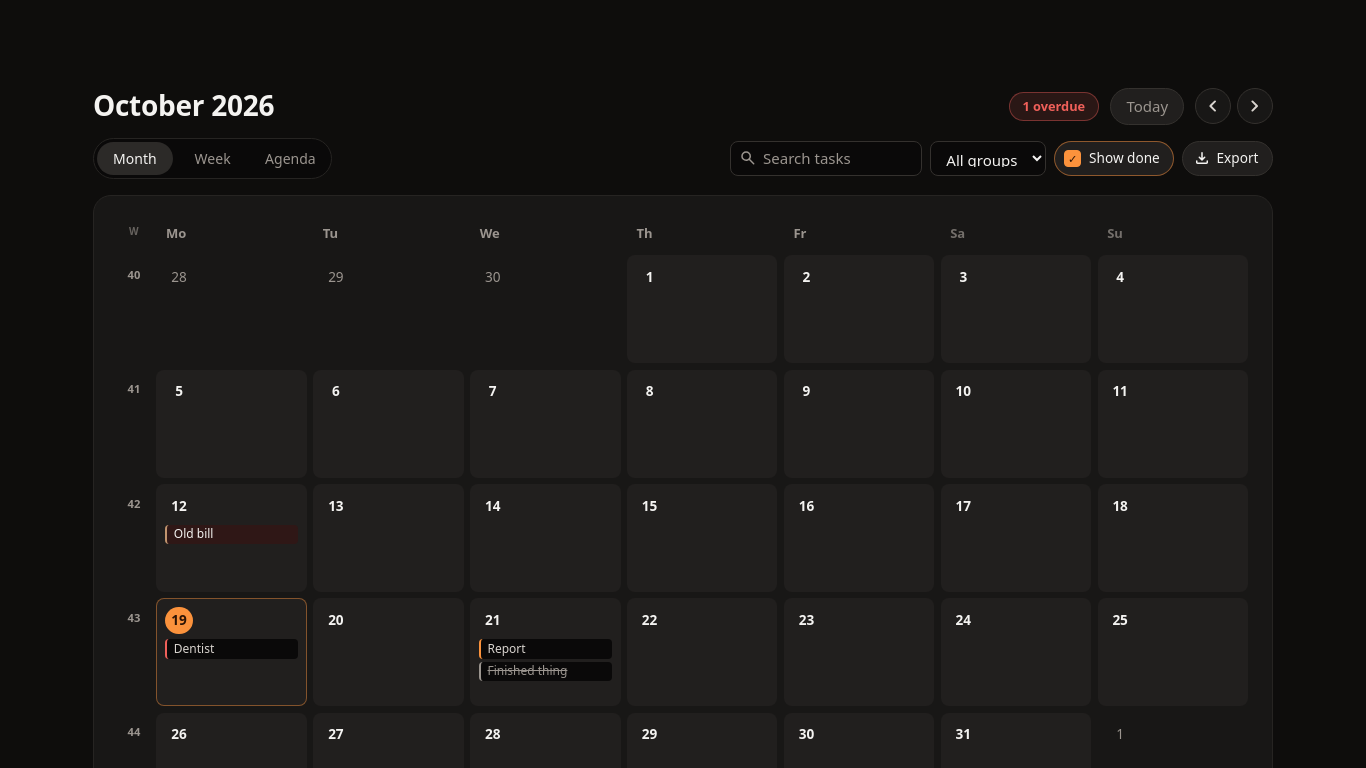
Scenario: month view › filters by text and hides done tasks
The image size is (1366, 768).
Type "dent" into the search field labelled "Search tasks" at (826, 158), box top-left (730, 141), bottom-right (922, 176)
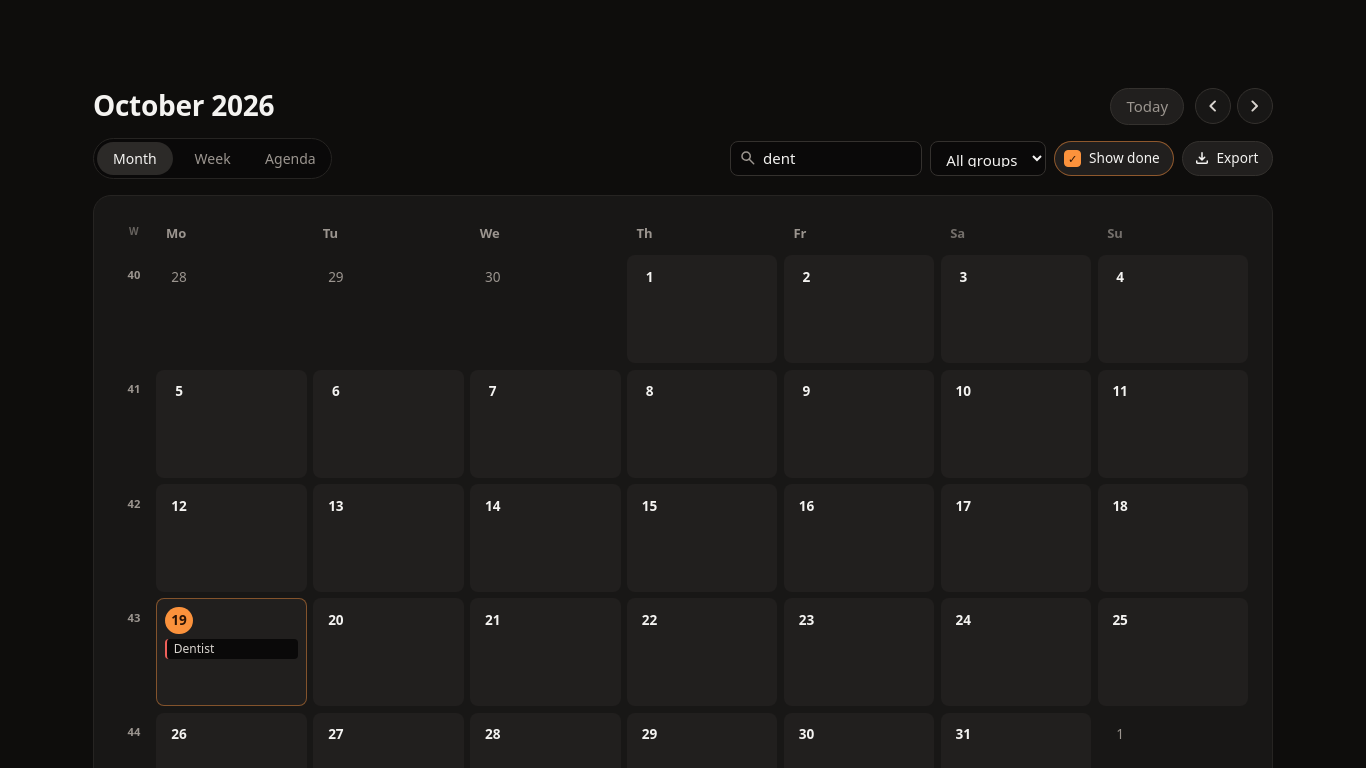
Check: the text "Dentist" is shown, box top-left (174, 640), bottom-right (214, 657)
Check: the button "Report" is gone
Clear the search field named "Search tasks" at (826, 158), box top-left (730, 141), bottom-right (922, 176)
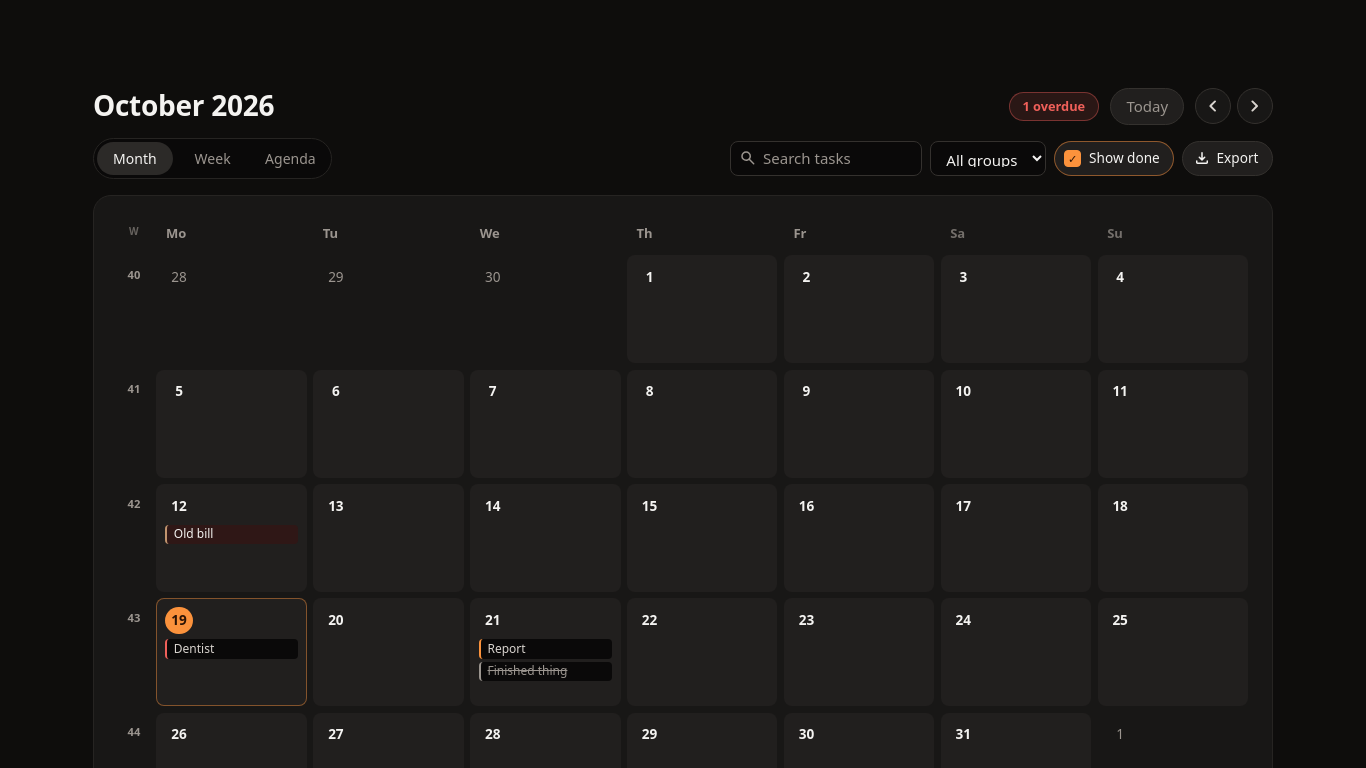
Check: the text "Finished thing" is shown, box top-left (488, 662), bottom-right (567, 679)
Click the button "Show done" at (1114, 158), box top-left (1054, 141), bottom-right (1174, 176)
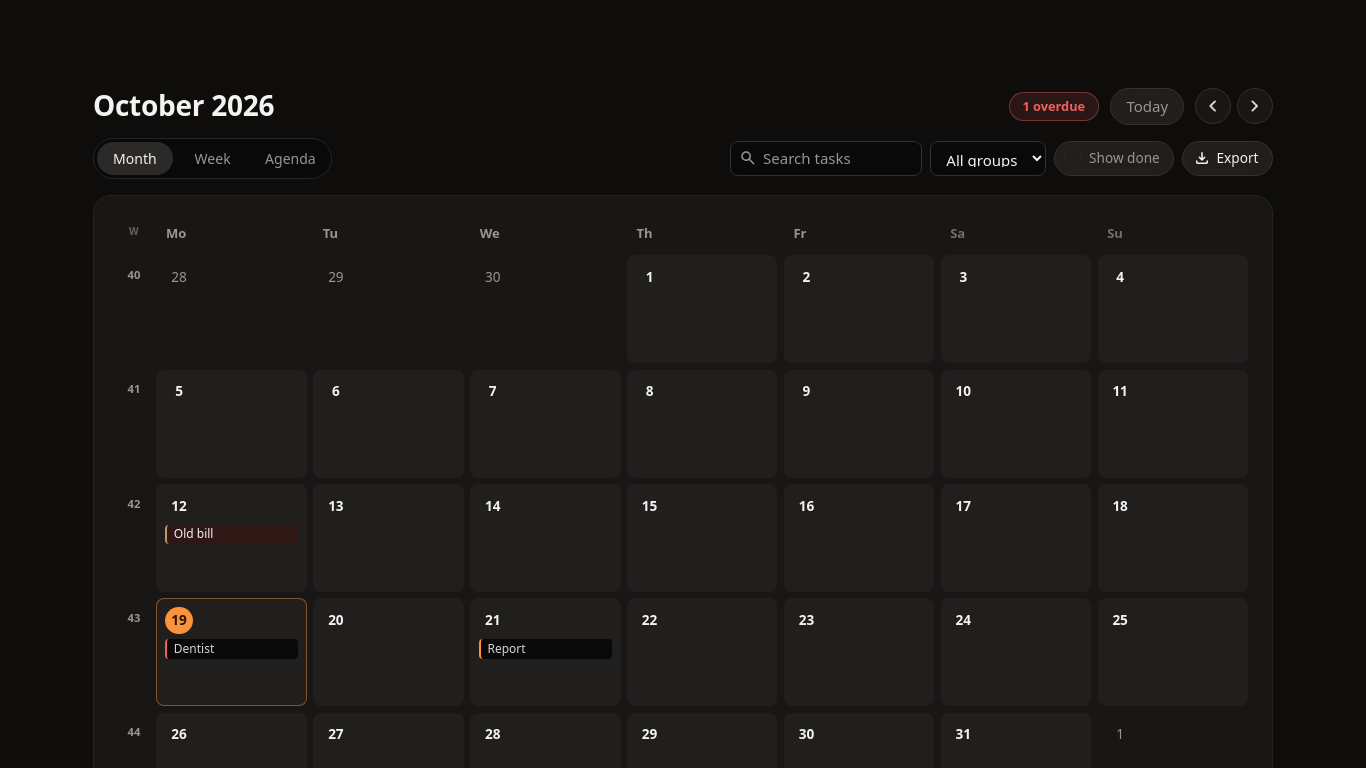
Check: the button "Finished thing" is gone
